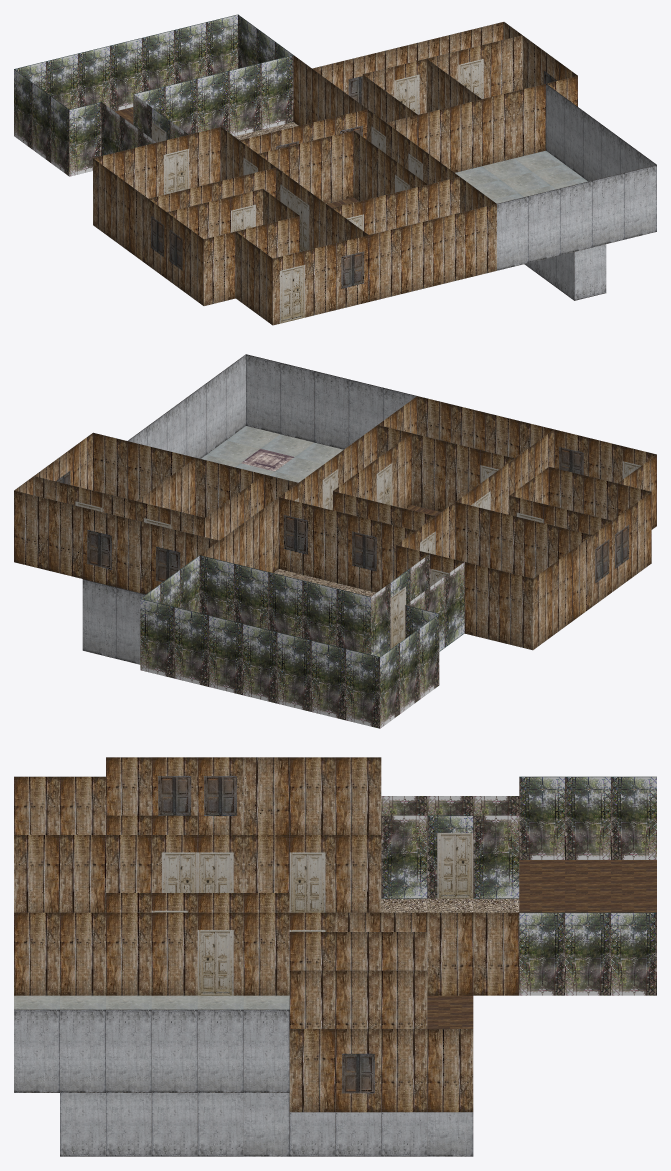
File: House.fbx
The picture shows the model from 3 angles, top to bottom: view 1: azimuth 30°, elevation 25°; view 2: azimuth 150°, elevation 25°; view 3: azimuth 270°, elevation 25°; orthographic projection. The views are drawn at different scales.
Visible parts, largest first — view 1: Cube; view 2: Cube; view 3: Cube.
Part boxes in pixels (box(x1,y1,x2,y2)): Cube: box(14, 14, 656, 325); Cube: box(14, 354, 656, 728); Cube: box(14, 757, 656, 1156).
Size of the model in its own units: 1400 by 400 by 1400.
Materials: 1 (1 with a texture image).
